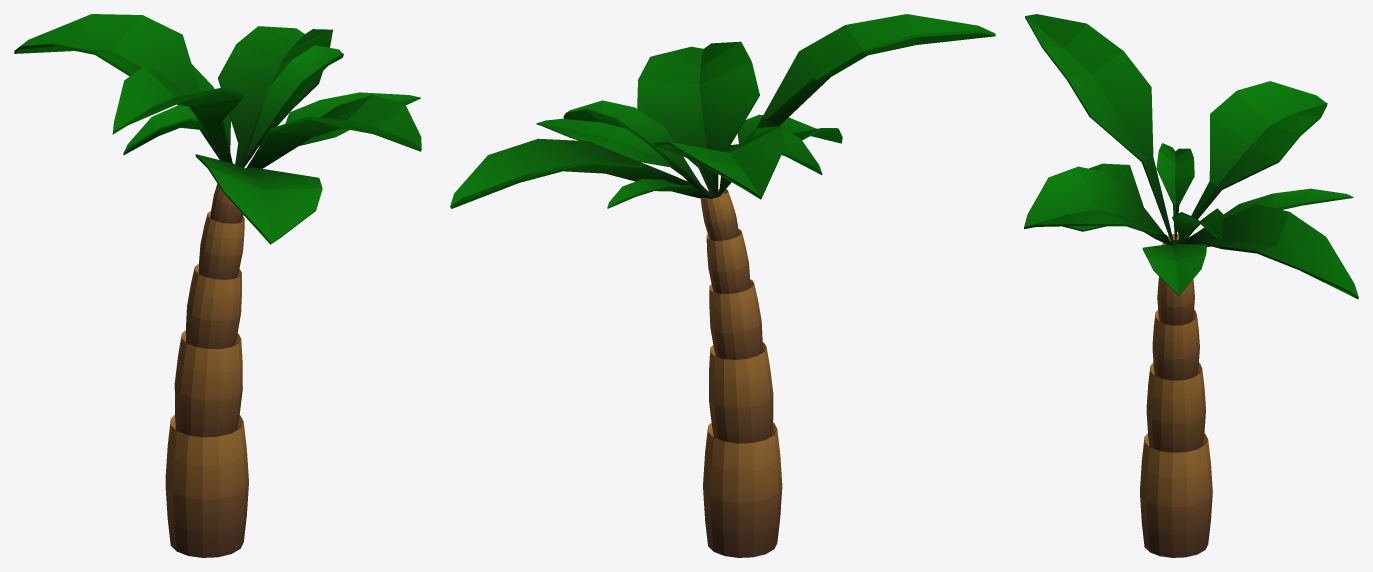
File: Palmera_elementosDecorativos_T.fbx
The picture shows the model from 3 angles, left to right: view 1: azimuth 30°, elevation 25°; view 2: azimuth 150°, elevation 25°; view 3: azimuth 270°, elevation 25°; orthographic projection. The views are drawn at different scales.
Visible parts, largest first — view 1: Palmera; view 2: Palmera; view 3: Palmera.
Part boxes in pixels (x1,y1,x2,y2): Palmera: (14,14,421,557); Palmera: (450,14,995,557); Palmera: (1024,14,1358,557).
Size of the model in its own units: 3319 by 4256 by 2784.
